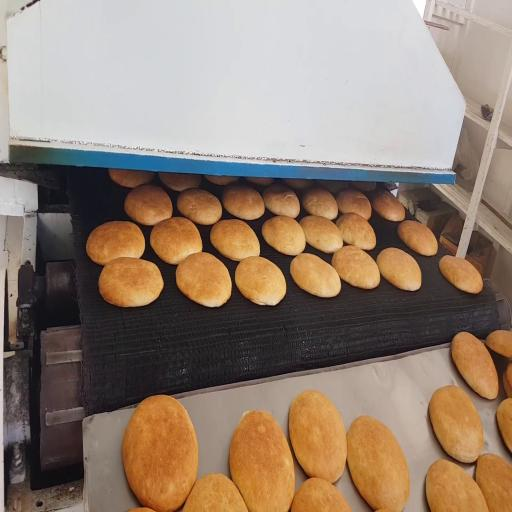bread: (123, 396, 198, 511), (230, 411, 295, 511), (347, 416, 410, 511), (289, 390, 346, 483), (429, 386, 483, 462), (99, 257, 163, 307), (426, 460, 488, 511), (451, 332, 498, 399), (176, 253, 231, 307), (86, 221, 145, 265), (235, 256, 286, 305), (150, 217, 202, 265), (183, 474, 247, 511), (290, 254, 340, 297), (332, 246, 380, 289), (210, 220, 259, 261), (476, 454, 511, 511), (291, 478, 351, 511), (377, 248, 421, 291), (125, 185, 172, 225), (262, 216, 305, 255), (177, 189, 222, 225), (439, 256, 482, 293), (300, 216, 343, 253), (222, 184, 265, 220), (336, 213, 376, 250), (398, 220, 437, 256), (263, 183, 299, 218), (302, 187, 338, 220), (336, 189, 371, 220), (372, 191, 405, 221), (109, 169, 154, 188), (159, 173, 201, 191), (486, 330, 512, 359), (497, 398, 511, 451), (320, 181, 348, 194), (284, 179, 315, 190), (205, 175, 238, 185), (503, 363, 511, 398), (246, 177, 274, 186), (351, 182, 376, 191), (506, 362, 511, 385), (128, 508, 153, 511)
